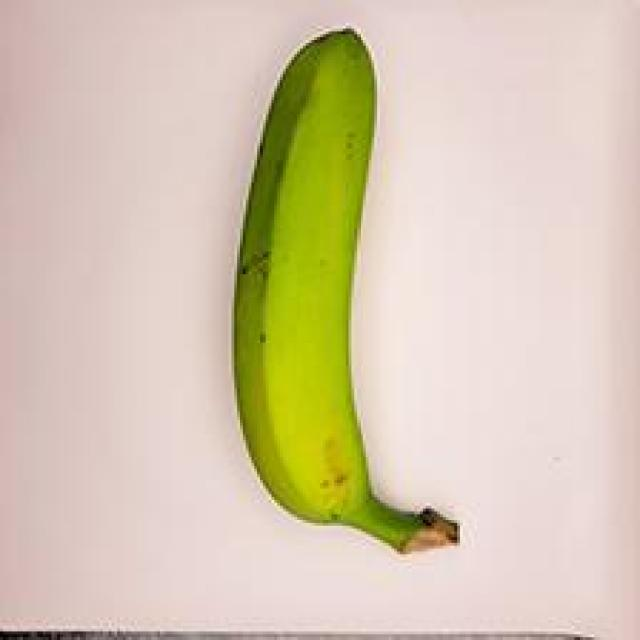Unripe: (173, 12, 516, 587)
